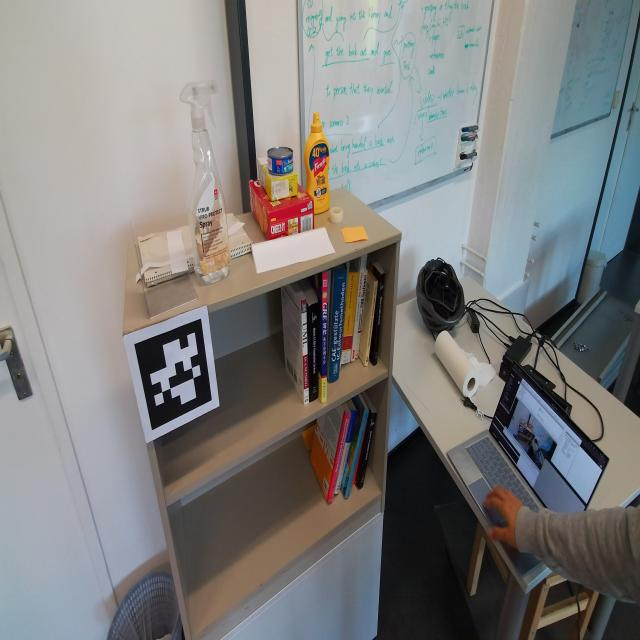Book Spine: (327, 411, 351, 505), (345, 409, 369, 500), (329, 268, 346, 382), (335, 408, 357, 495), (341, 271, 358, 366), (356, 253, 370, 360), (351, 256, 365, 362), (359, 411, 377, 489), (365, 281, 378, 366), (300, 298, 310, 407), (308, 303, 319, 401), (374, 271, 385, 368), (321, 271, 328, 403)
